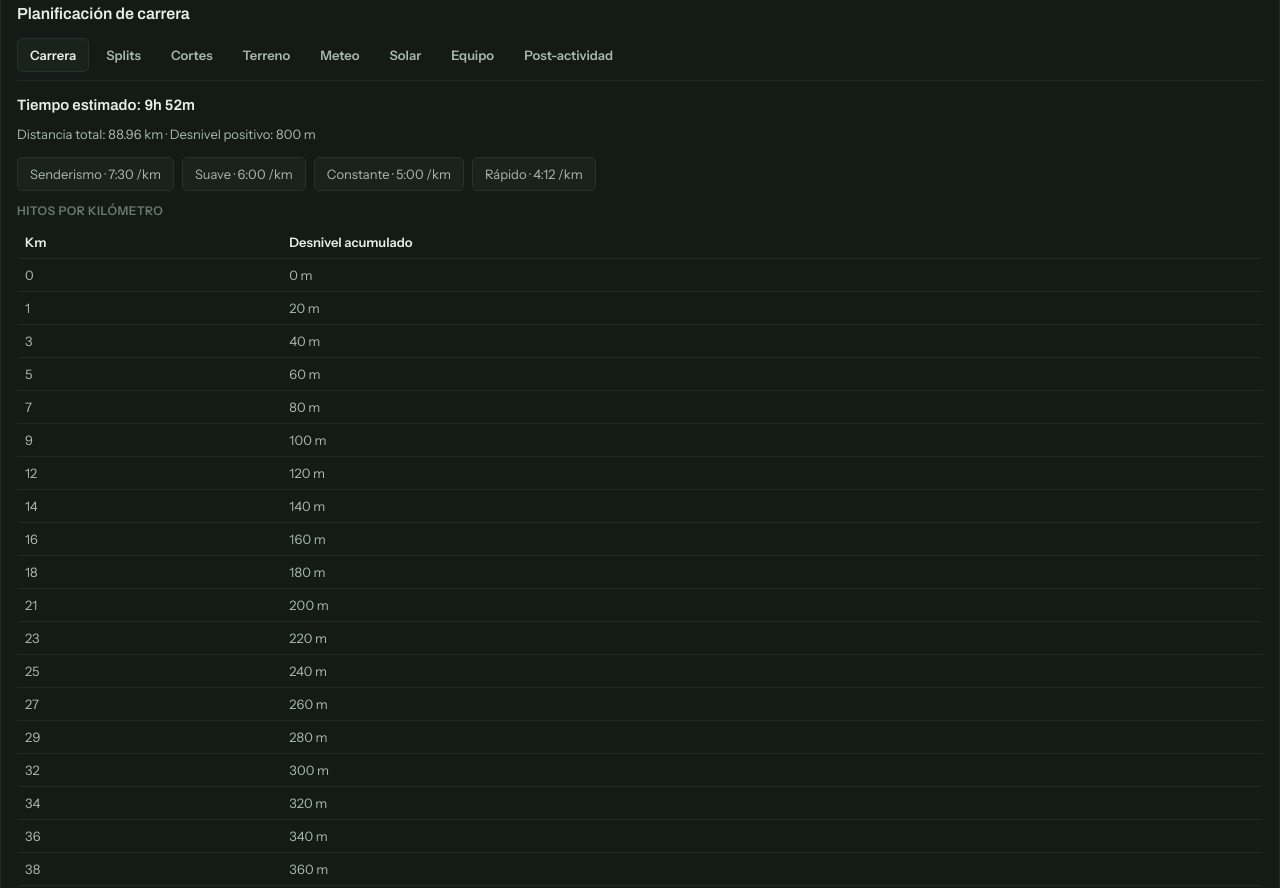
Test: RacePlanSection › renders mandatory and recommended gear for a long track
This screenshot has width=1280, height=888.
Click the tab "Equipo": click(473, 55) [438,38,507,72]
(page scrolled)
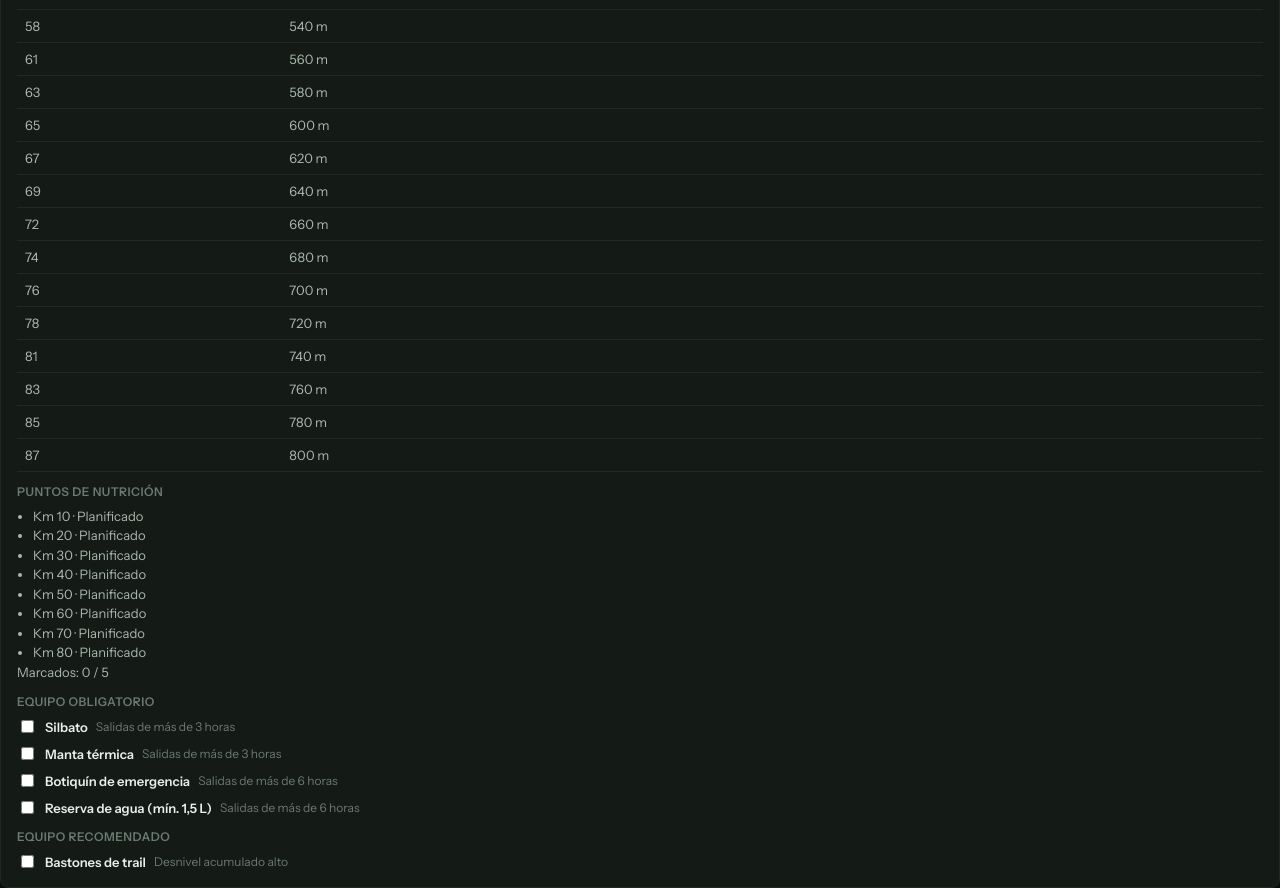
Result: the text "Marcados: 0 / 5" is shown at [17,664,109,680]
Result: the text "Silbato" is shown at [45,718,88,734]
Result: the text "Bastones de trail" is shown at [45,854,146,870]
